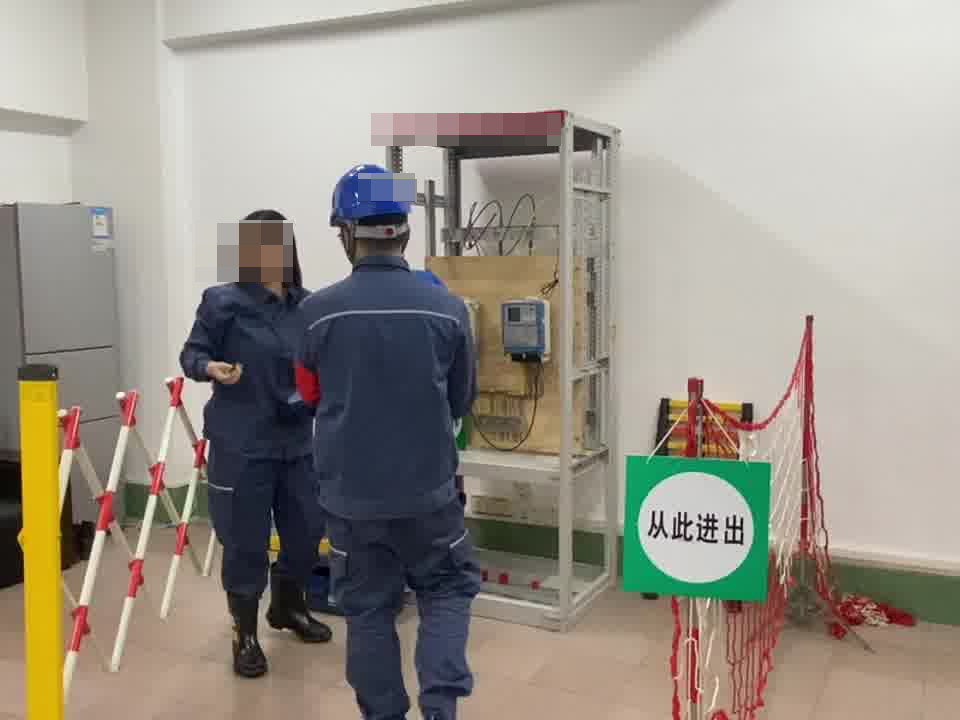badge: (291, 359, 322, 407)
downsuit: (330, 526, 482, 720), (206, 465, 316, 619)
halt: (328, 163, 417, 261)
hand: (209, 361, 245, 388)
inear: (338, 217, 357, 254)
intosign: (624, 456, 766, 599)
person: (300, 158, 494, 720), (178, 202, 333, 681)
shoe: (226, 594, 268, 679), (273, 579, 329, 641)
unhalt: (226, 207, 302, 287)
upsuit: (301, 264, 476, 519), (183, 285, 312, 459)
